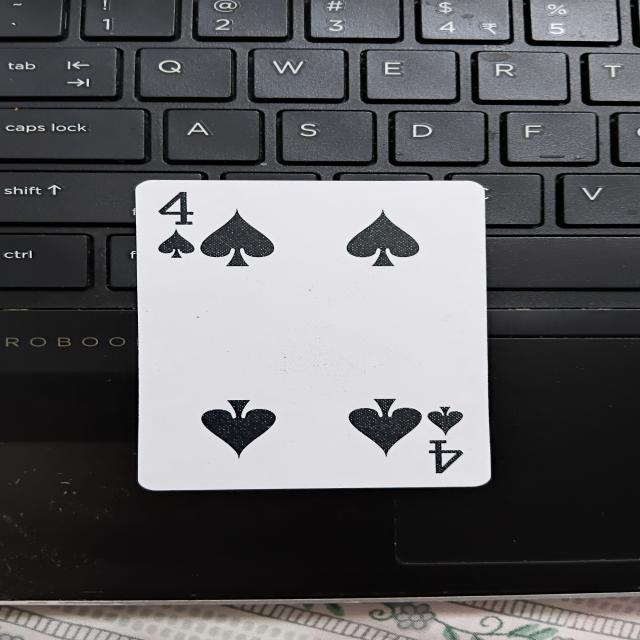4S: (136, 179, 488, 485)
